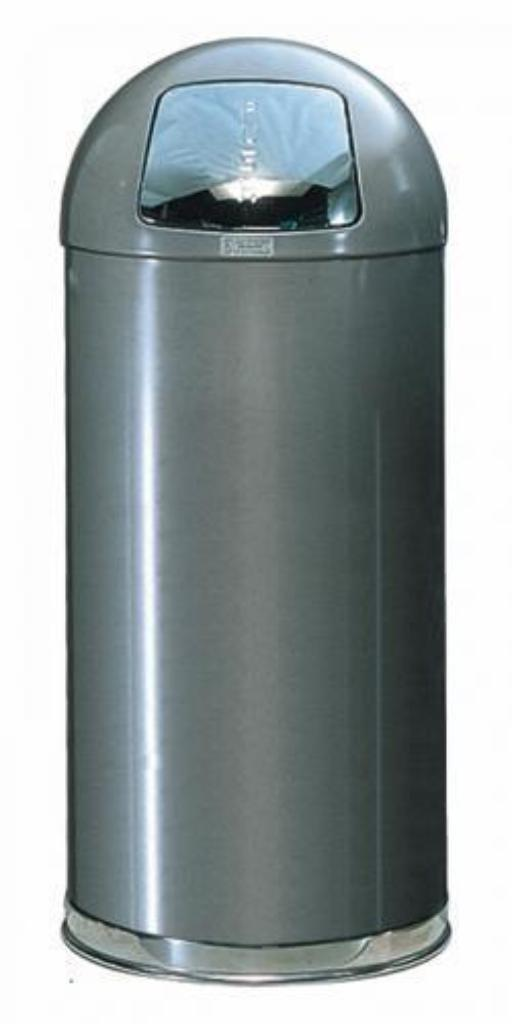dustbin: (51, 22, 457, 985)
